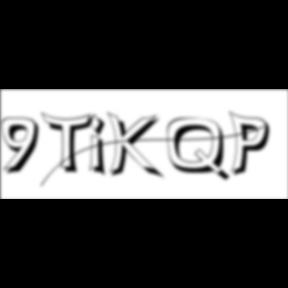9: (1, 117, 46, 177)
K: (107, 110, 166, 182)
P: (230, 110, 276, 180)
Q: (167, 117, 233, 184)
T: (41, 112, 99, 176)
i: (89, 112, 113, 180)
